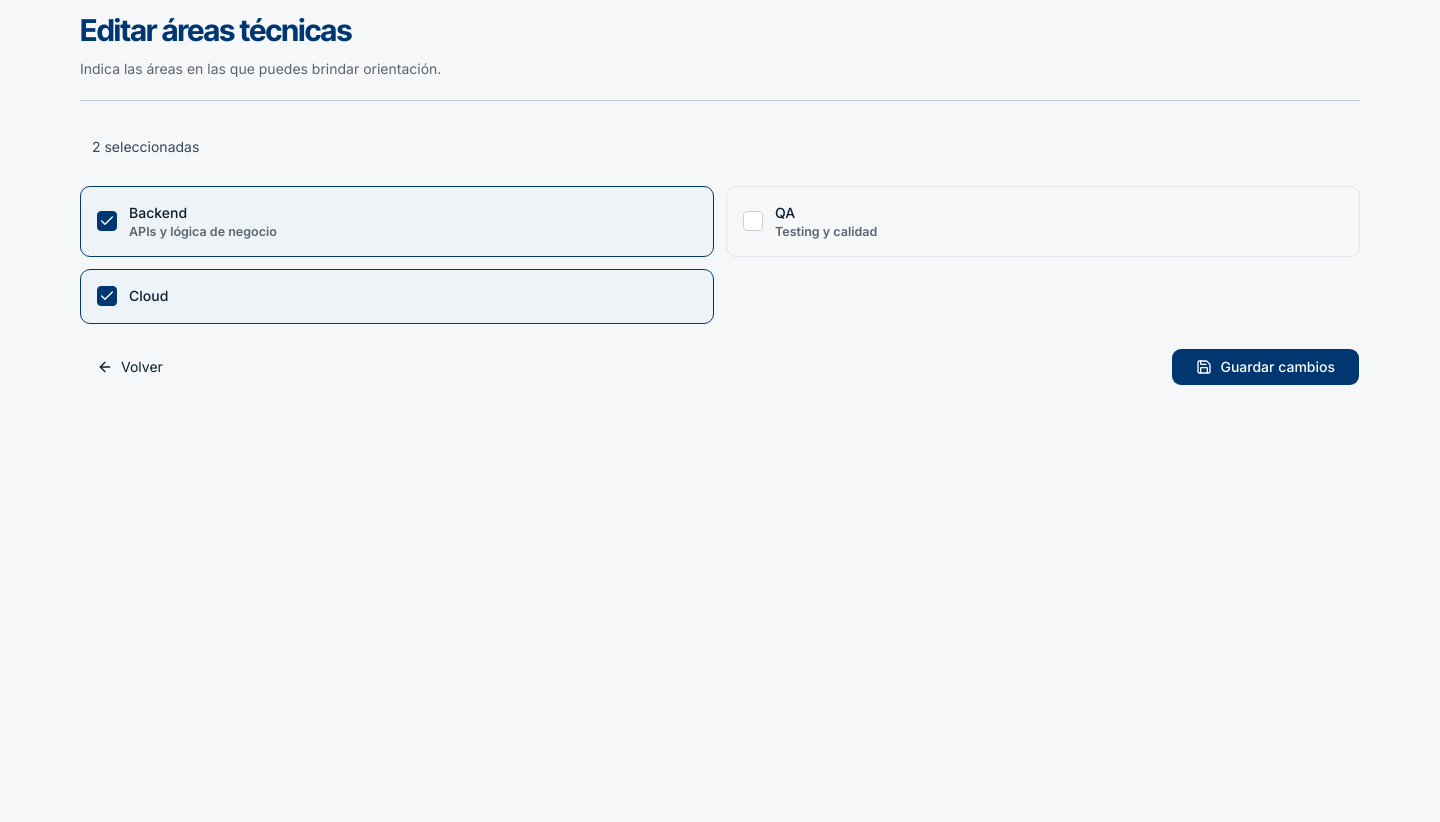
Test: TechnicalAreasView › si falla el guardado conserva la seleccion actual
Expected: the text "2 seleccionadas" is shown, [80,125,1360,170]
Click the checkbox labelled "QA Testing y calidad".
click(826, 231)  # box [726,186,1360,257]
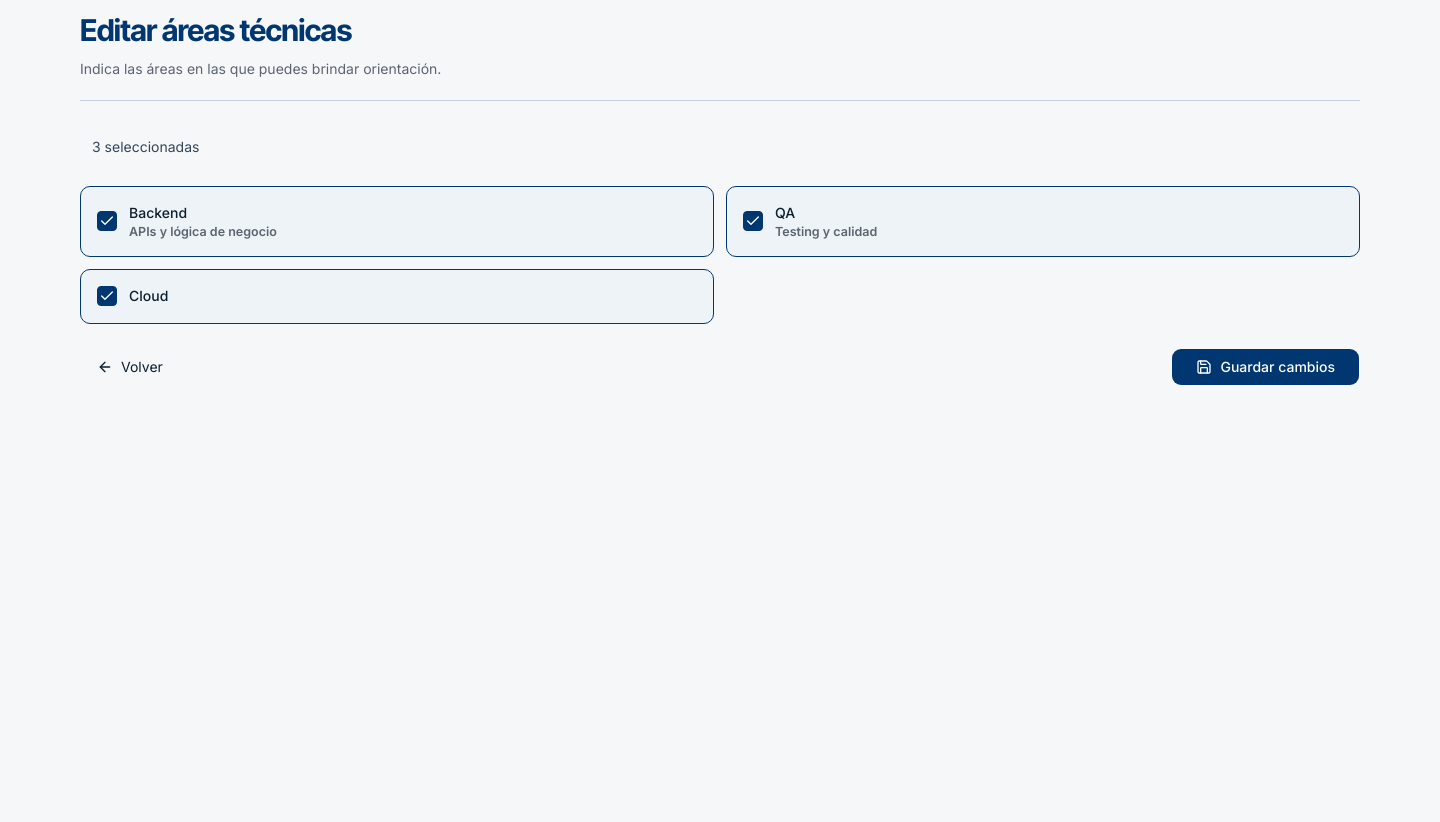
Click the button "Guardar cambios".
click(1266, 367)  # box [1172,348,1360,386]
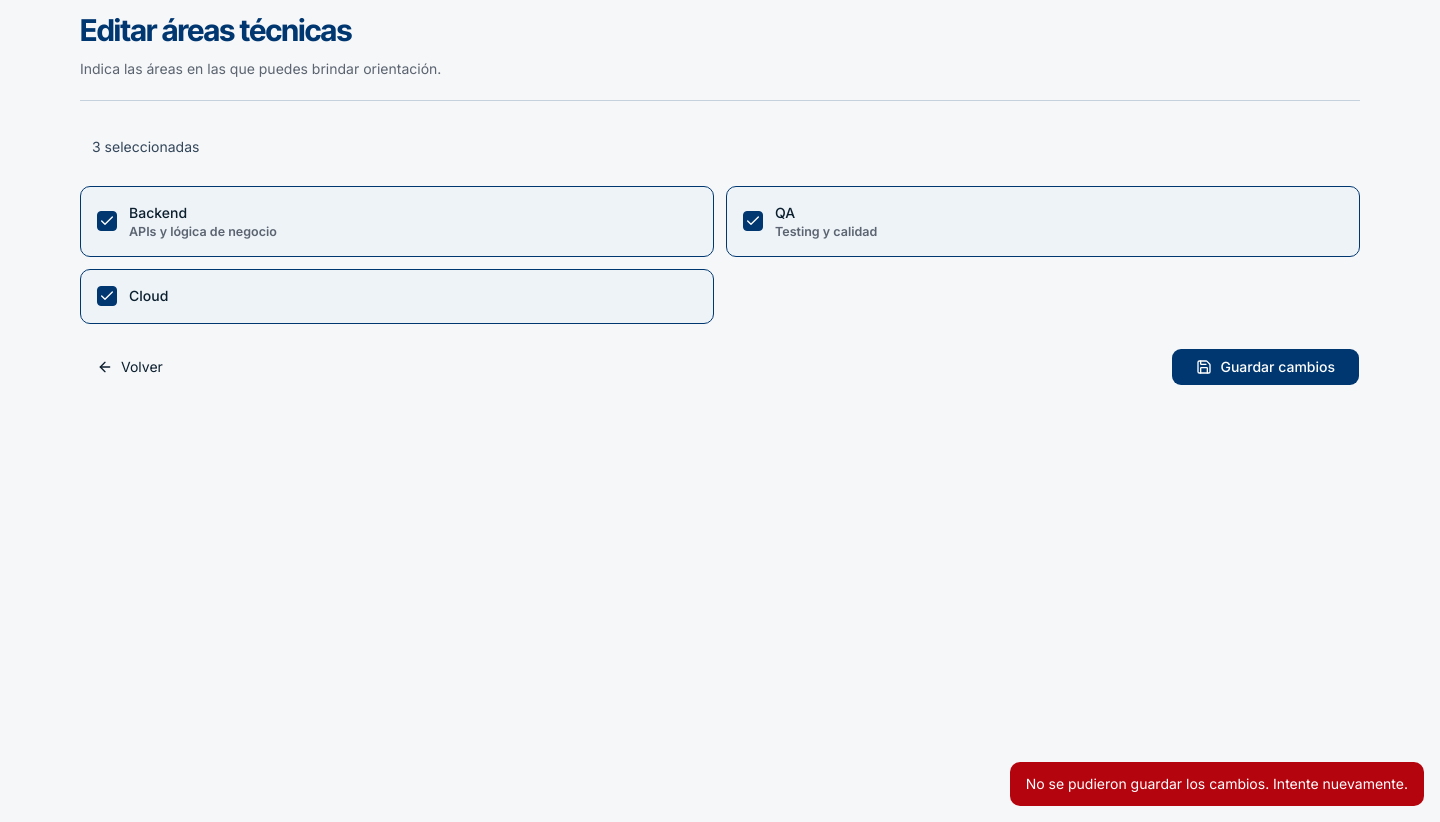
Expected: the text "3 seleccionadas" is shown, [80,125,1360,170]
Expected: the text "No se pudieron guardar los cambios. Intente nuevamente." is shown, [1010,762,1424,806]
